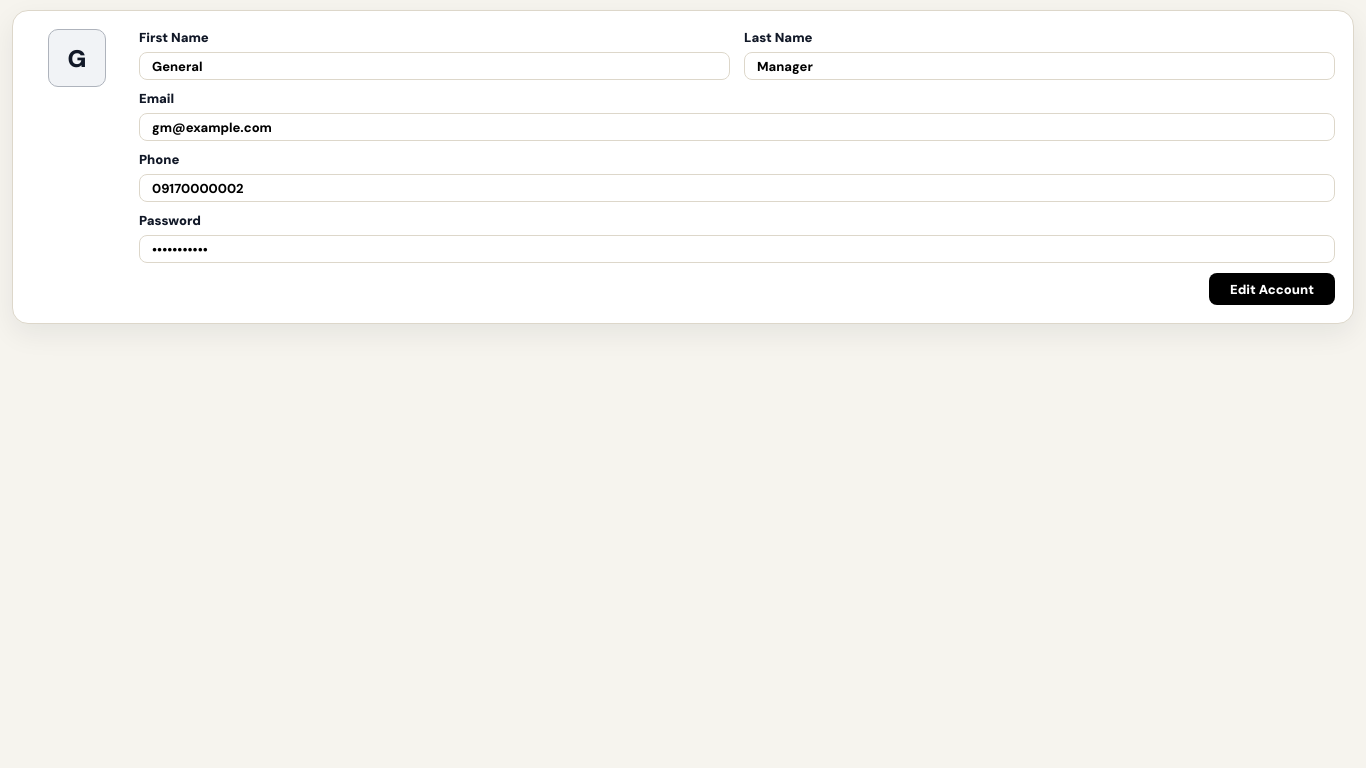
Test: Sales Associate Staff Profile parity › General Manager uses the same Staff self-profile field set without Admin-only controls
Click the button "Edit Account" at point(1272, 289), box [1209,273,1335,305]
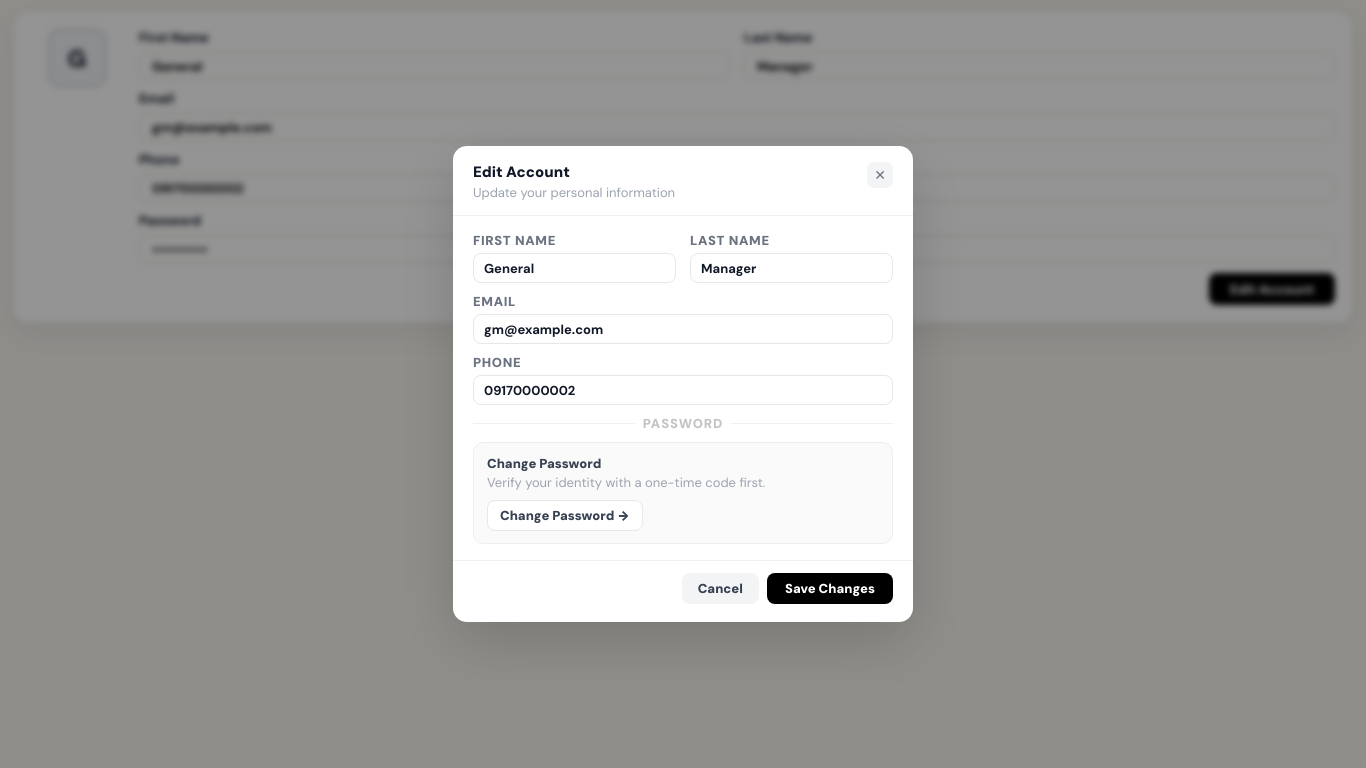
Check: the field named "Edit first name" holds "General", box [473,253,676,283]
Check: the field named "Edit last name" holds "Manager", box [690,253,893,283]
Check: the field named "Edit email" holds "gm@example.com", box [473,314,893,344]
